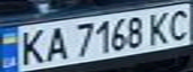1: (90, 17, 115, 54)
6: (109, 16, 130, 52)
7: (69, 19, 97, 57)
8: (124, 14, 148, 50)
A: (39, 24, 72, 62)
C: (163, 6, 193, 42)
K: (12, 26, 48, 66), (142, 9, 175, 45)
